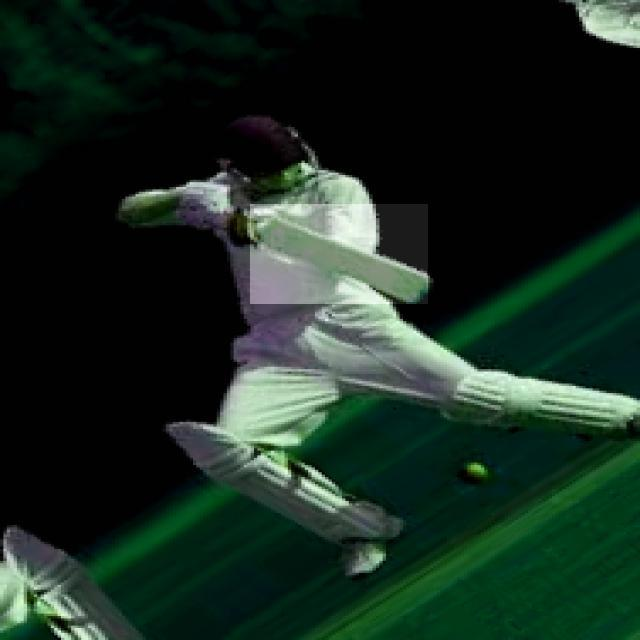bat: (251, 205, 433, 307)
toe: (414, 266, 431, 307)
